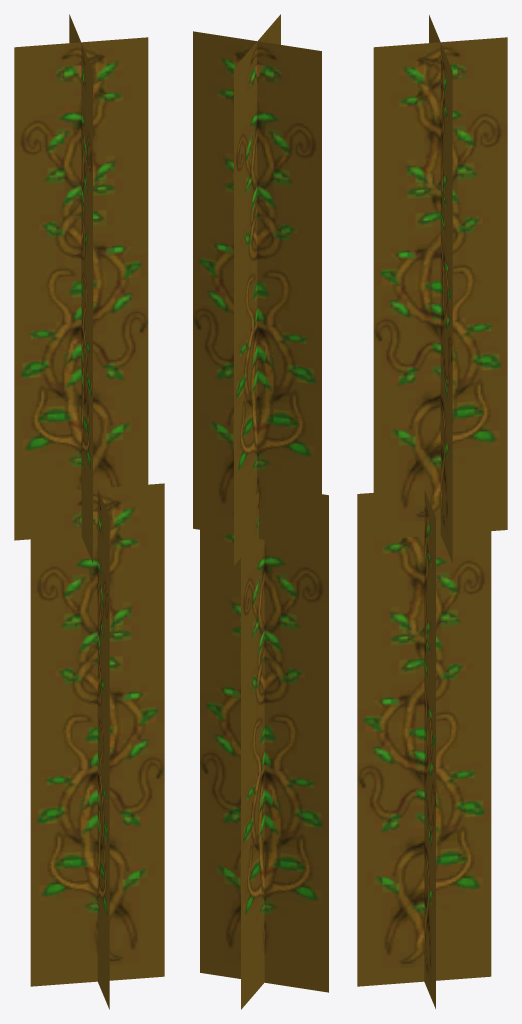
The model's file is INST_EKH_TWISTVINELG_01.fbx.
3 renders of one model, left to right at view 1: azimuth 90°, elevation 25°; view 2: azimuth 150°, elevation 25°; view 3: azimuth 270°, elevation 25°, orthographic.
Parts seen in each view (by area): view 1: INST_EKH_TWISTVINELG_01; view 2: INST_EKH_TWISTVINELG_01; view 3: INST_EKH_TWISTVINELG_01.
Part boxes in pixels (left/top/right/bottom): INST_EKH_TWISTVINELG_01: left=14, top=14, right=164, bottom=1009; INST_EKH_TWISTVINELG_01: left=193, top=14, right=328, bottom=1009; INST_EKH_TWISTVINELG_01: left=357, top=15, right=507, bottom=1008.
Bounding box in the file's own units: 6742 × 51631 × 7489.
Materials: 1 (1 with a texture image).
